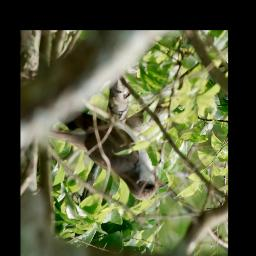Cuckoo: (45, 108, 168, 202)
